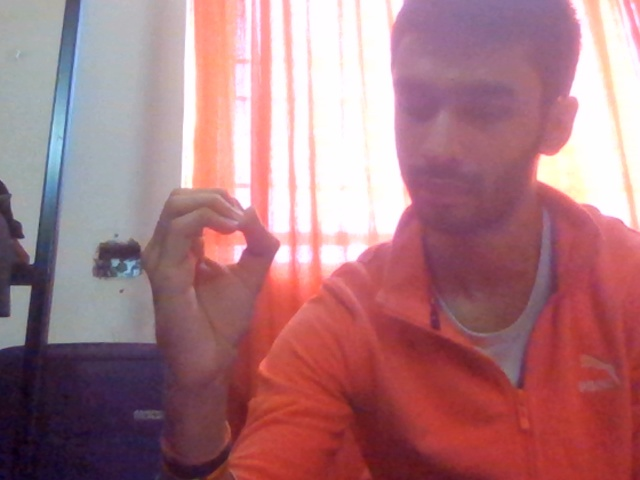O: (121, 170, 338, 440)
